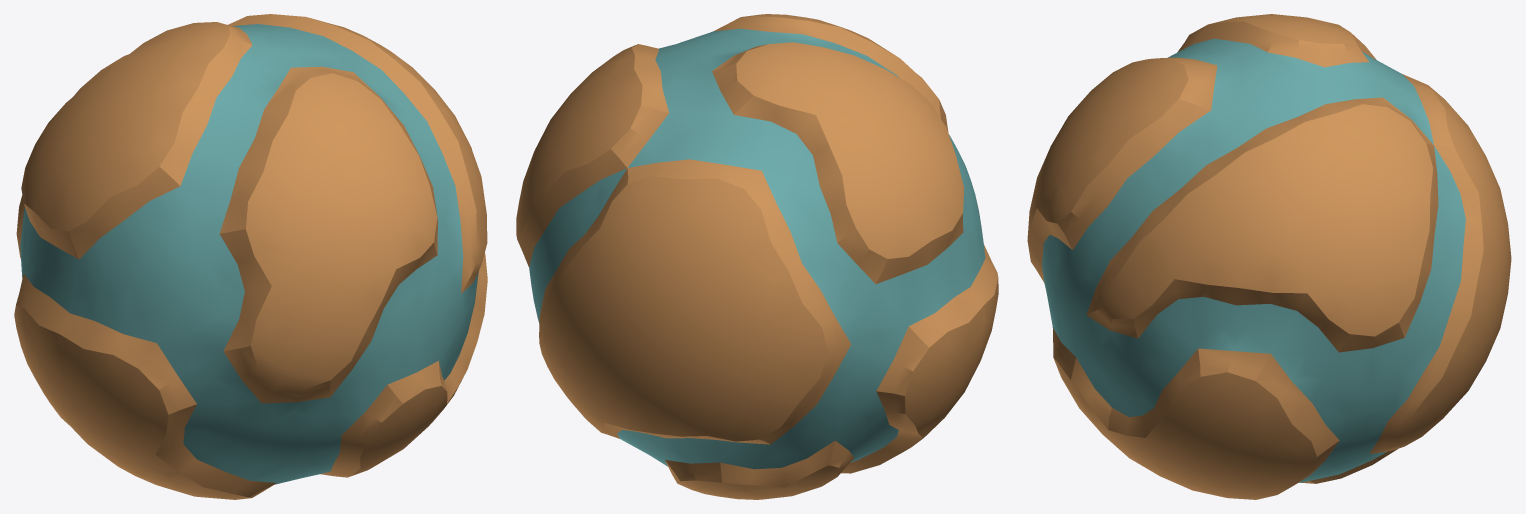
The model's file is Planet_2_Icosphere.obj.
The picture shows the model from 3 angles, left to right: view 1: azimuth 30°, elevation 25°; view 2: azimuth 150°, elevation 25°; view 3: azimuth 270°, elevation 25°; orthographic projection.
Parts seen in each view (by area): view 1: Planet_2_Icosphere; view 2: Planet_2_Icosphere; view 3: Planet_2_Icosphere.
Part boxes in pixels (x1=…): Planet_2_Icosphere: x1=14, y1=14, x2=487, y2=499; Planet_2_Icosphere: x1=516, y1=14, x2=998, y2=499; Planet_2_Icosphere: x1=1027, y1=14, x2=1511, y2=499.
Bounding box in the file's own units: 3.83 × 3.83 × 3.87.
